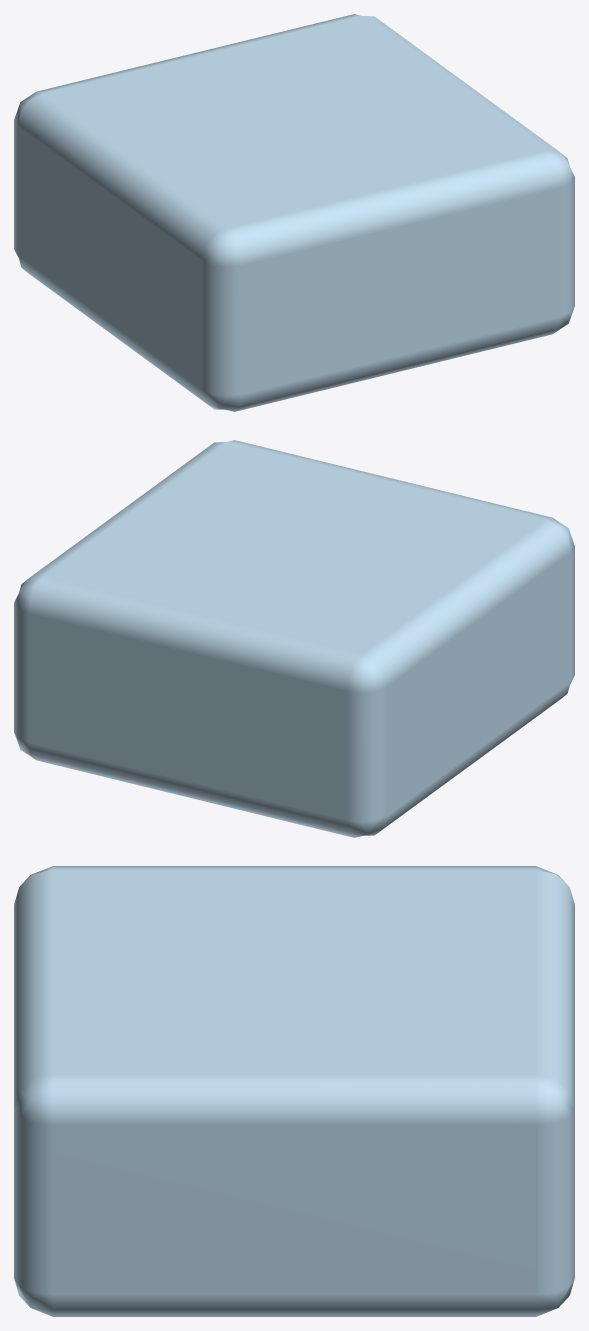
Rendered from R4B_HalfBlock.fbx.
3 views of the same model, one above another, from view 1: azimuth 30°, elevation 25°; view 2: azimuth 150°, elevation 25°; view 3: azimuth 270°, elevation 25° (orthographic). The views are drawn at different scales.
Parts seen in each view (by area): view 1: R4B_HalfBlock; view 2: R4B_HalfBlock; view 3: R4B_HalfBlock.
Boxes of the visible parts, bbox=[...] form: R4B_HalfBlock: bbox=[14, 14, 574, 411]; R4B_HalfBlock: bbox=[14, 440, 574, 837]; R4B_HalfBlock: bbox=[14, 866, 574, 1316].
Size of the model in its own units: 0.52 by 0.245 by 0.52.
